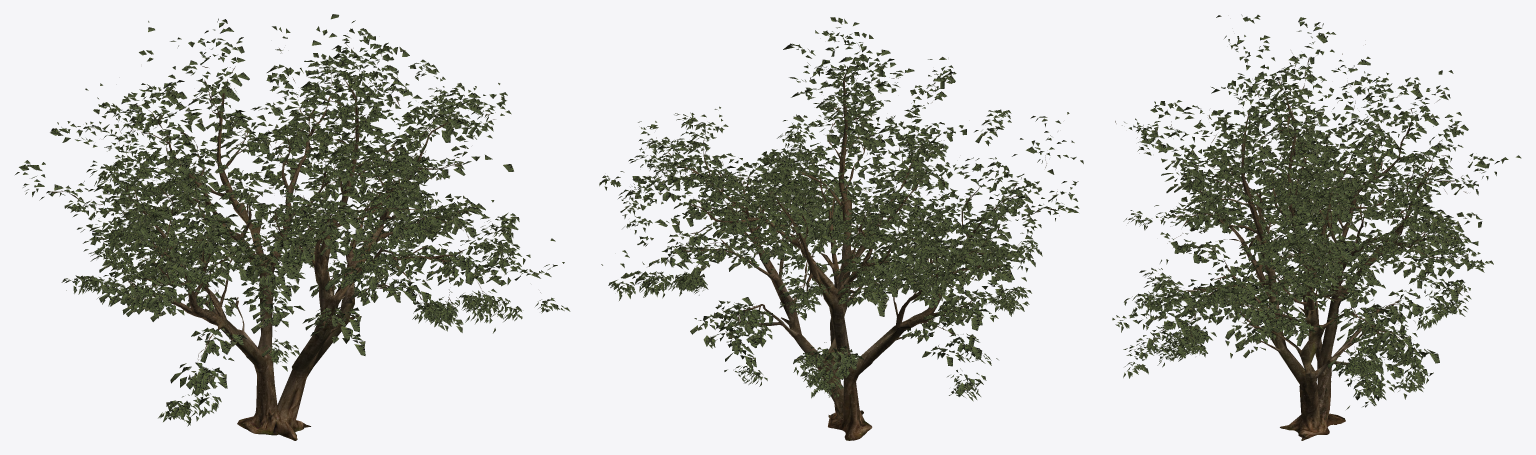
File: jacaranda_tree.3fceb7de.glb
3 views of the same model, side by side, from view 1: azimuth 30°, elevation 25°; view 2: azimuth 150°, elevation 25°; view 3: azimuth 270°, elevation 25° (orthographic). The views are drawn at different scales.
Parts seen in each view (by area): view 1: jacaranda_tree_LOD0; view 2: jacaranda_tree_LOD0; view 3: jacaranda_tree_LOD0.
Boxes of the visible parts, bbox=[...] form: jacaranda_tree_LOD0: bbox=[15, 14, 570, 440]; jacaranda_tree_LOD0: bbox=[599, 17, 1083, 440]; jacaranda_tree_LOD0: bbox=[1112, 14, 1521, 440].
Size of the model in its own units: 23.75 by 19.26 by 18.77.
3 materials, 3 textured.
